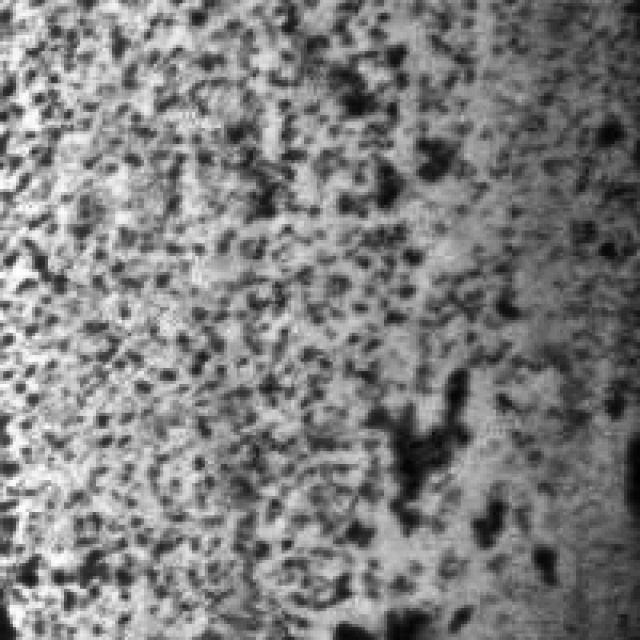Rolled_in_Scale: (0, 6, 563, 637)
